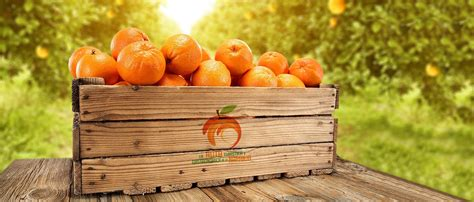orange: (116, 41, 166, 87), (160, 33, 204, 73), (76, 49, 119, 84), (214, 37, 253, 75), (289, 53, 325, 84), (240, 65, 276, 93), (257, 49, 290, 75)
